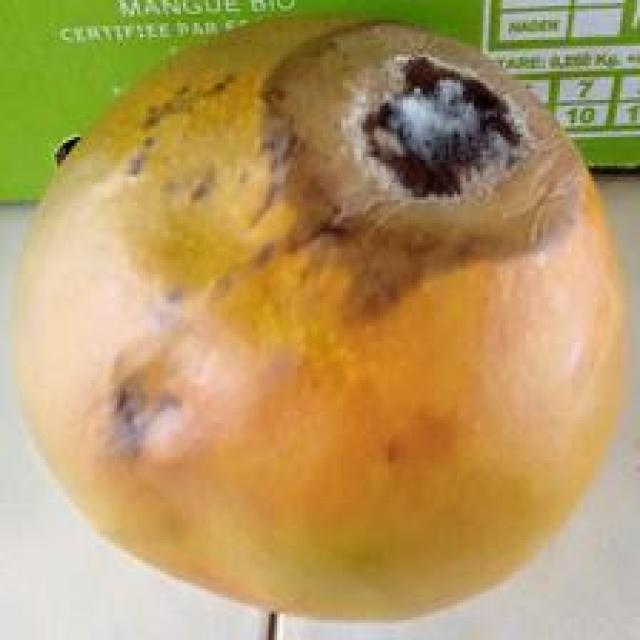Bad_Mango: (20, 25, 622, 617)
